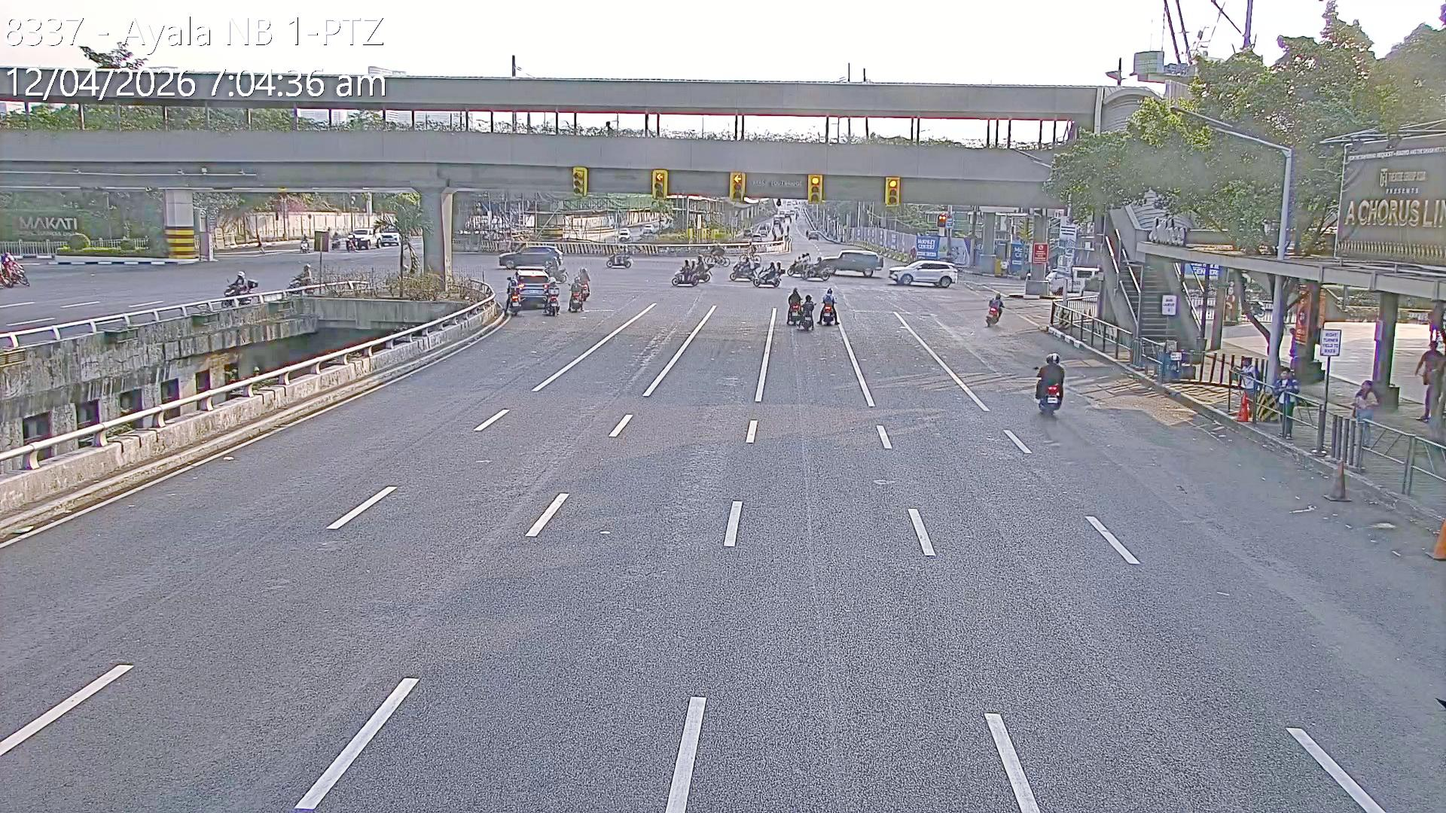Car: (509, 267, 559, 313), (499, 239, 563, 273), (1047, 262, 1102, 298), (888, 259, 957, 287), (817, 249, 881, 278), (346, 228, 380, 250), (377, 230, 401, 247)
Motor: (1033, 354, 1064, 408), (222, 273, 258, 306), (1036, 374, 1063, 415), (751, 259, 787, 289), (287, 261, 317, 296), (670, 258, 702, 287), (820, 285, 840, 329), (728, 257, 760, 282), (606, 244, 635, 271), (803, 256, 832, 283), (691, 255, 716, 284), (785, 287, 803, 326), (568, 277, 588, 312), (787, 252, 815, 277), (801, 292, 817, 333), (576, 267, 592, 302), (505, 283, 523, 314), (545, 256, 567, 280), (343, 228, 360, 253), (984, 297, 1000, 322), (297, 231, 313, 255), (329, 230, 343, 251)
Not Accident: (505, 251, 569, 313), (789, 250, 884, 283), (1031, 347, 1073, 419), (503, 269, 562, 316), (500, 241, 570, 280), (731, 258, 783, 288), (787, 286, 816, 334), (672, 258, 714, 287), (790, 251, 830, 281), (569, 269, 591, 309)
